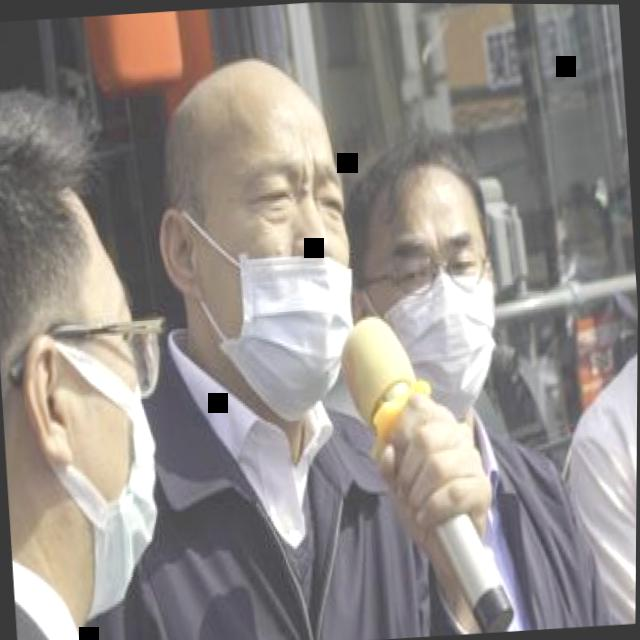Mask: (181, 103, 364, 427), (36, 218, 170, 624), (353, 186, 503, 425)
